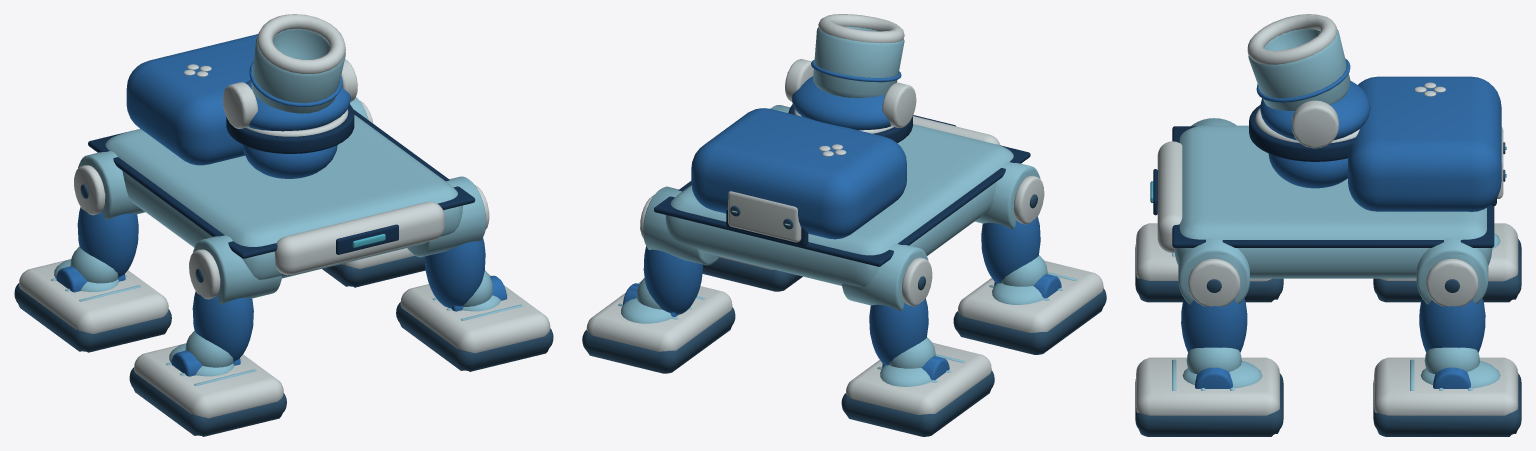
Rendered from TOY_BRIGADIER.hi.glb.
The picture shows the model from 3 angles, left to right: view 1: azimuth 30°, elevation 25°; view 2: azimuth 150°, elevation 25°; view 3: azimuth 270°, elevation 25°; orthographic projection. The views are drawn at different scales.
Visible parts, largest first — view 1: Body, Mortar, Foot_BL, Foot_FL, Foot_FR, Leg_FL, Leg_BL, Leg_FR, Foot_BR; view 2: Body, Mortar, Foot_FL, Foot_BL, Foot_BR, Leg_BL, Leg_FL, Leg_BR, Foot_FR; view 3: Body, Mortar, Foot_FR, Foot_BR, Leg_BR, Leg_FR, Foot_FL, Foot_BL.
Part boxes in pixels (x1=…): Body: x1=88, y1=34, x2=475, y2=279; Mortar: x1=223, y1=14, x2=357, y2=131; Foot_BL: x1=14, y1=259, x2=171, y2=352; Foot_FL: x1=129, y1=343, x2=286, y2=436; Foot_FR: x1=396, y1=274, x2=553, y2=371; Leg_FL: x1=185, y1=235, x2=281, y2=367; Leg_BL: x1=70, y1=151, x2=145, y2=283; Leg_FR: x1=407, y1=176, x2=492, y2=307; Foot_BR: x1=322, y1=248, x2=425, y2=287; Body: x1=654, y1=104, x2=1030, y2=286; Mortar: x1=785, y1=14, x2=916, y2=130; Foot_FL: x1=953, y1=260, x2=1106, y2=354; Foot_BL: x1=841, y1=342, x2=994, y2=436; Foot_BR: x1=582, y1=282, x2=735, y2=373; Leg_BL: x1=842, y1=244, x2=935, y2=368; Leg_FL: x1=975, y1=162, x2=1047, y2=286; Leg_BR: x1=636, y1=186, x2=719, y2=314; Foot_FR: x1=702, y1=256, x2=802, y2=291; Body: x1=1150, y1=76, x2=1506, y2=278; Mortar: x1=1247, y1=14, x2=1370, y2=148; Foot_FR: x1=1135, y1=357, x2=1283, y2=436; Foot_BR: x1=1373, y1=357, x2=1521, y2=436; Leg_BR: x1=1416, y1=238, x2=1488, y2=373; Leg_FR: x1=1178, y1=238, x2=1249, y2=373; Foot_FL: x1=1135, y1=223, x2=1283, y2=302; Foot_BL: x1=1373, y1=223, x2=1521, y2=302.
Bounding box in the file's own units: 3.13 × 2.58 × 2.79.
